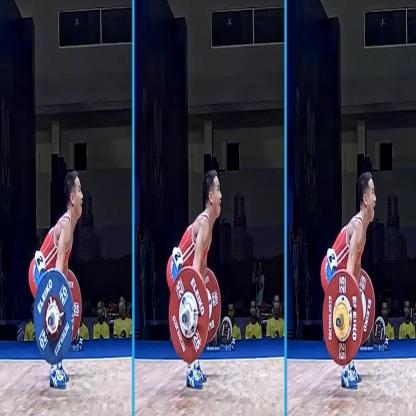Barbell: (320, 260, 367, 366), (33, 262, 76, 376), (166, 261, 212, 365)
